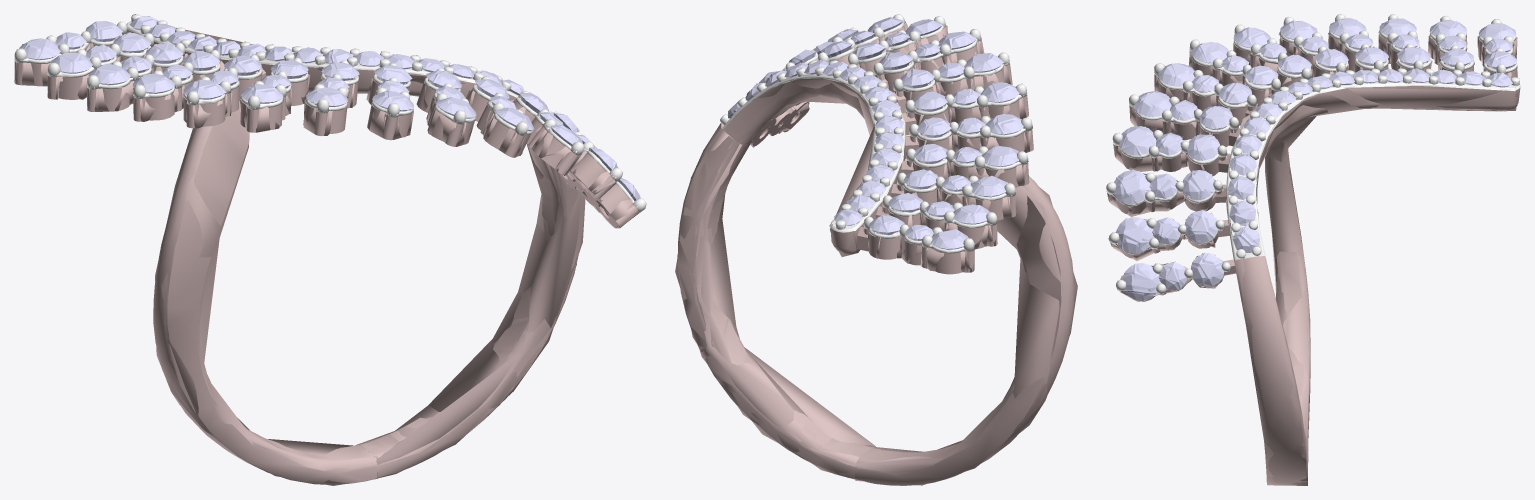
The model's file is DLR-D000686431.glb.
3 views of the same model, side by side, from view 1: azimuth 30°, elevation 25°; view 2: azimuth 150°, elevation 25°; view 3: azimuth 270°, elevation 25° (orthographic). The views are drawn at different scales.
Parts seen in each view (by area): view 1: highPolyMesh, lowPolyMesh; view 2: highPolyMesh, lowPolyMesh; view 3: highPolyMesh, lowPolyMesh.
Boxes of the visible parts, box(x1,y1,x2,y2) form: highPolyMesh: box(14, 14, 646, 484); lowPolyMesh: box(14, 14, 646, 485); highPolyMesh: box(678, 14, 1074, 485); lowPolyMesh: box(675, 14, 1077, 485); highPolyMesh: box(1106, 14, 1520, 484); lowPolyMesh: box(1106, 14, 1519, 485).
Bounding box in the file's own units: 0.0217 × 0.0206 × 0.0201.
